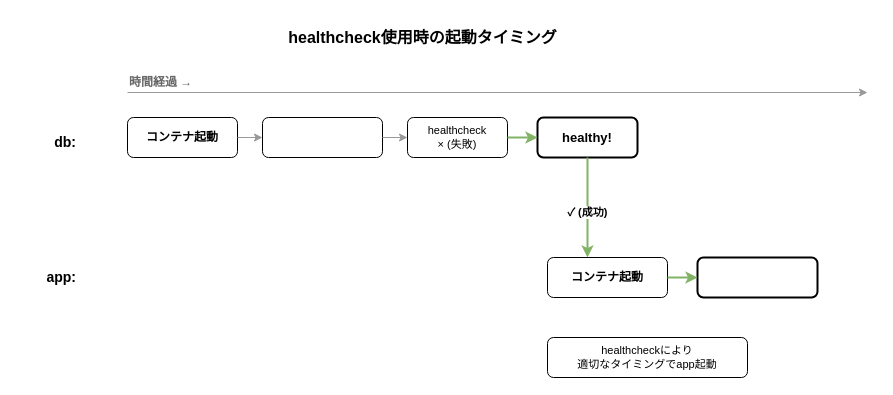
Some shapes in this 893 by 395 pixel diagram are drawn without their labels. Here are the shapes that lost their labels. From the top down, the centre of each, then its label:
At point 322,137: "初期化...".
At point 757,277: "正常に接続".
